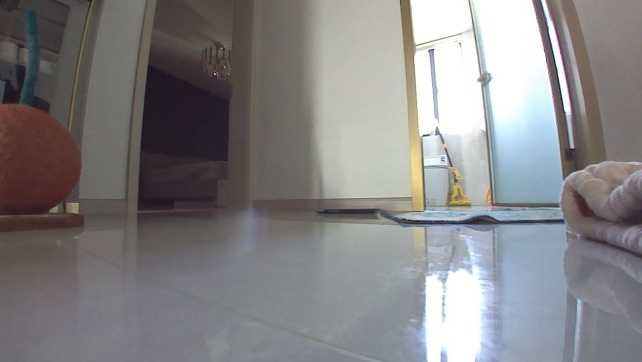blanket: (377, 205, 567, 227)
door_anno: (469, 0, 571, 205)
door_sill: (138, 203, 233, 215)
toilet: (423, 155, 449, 210)
